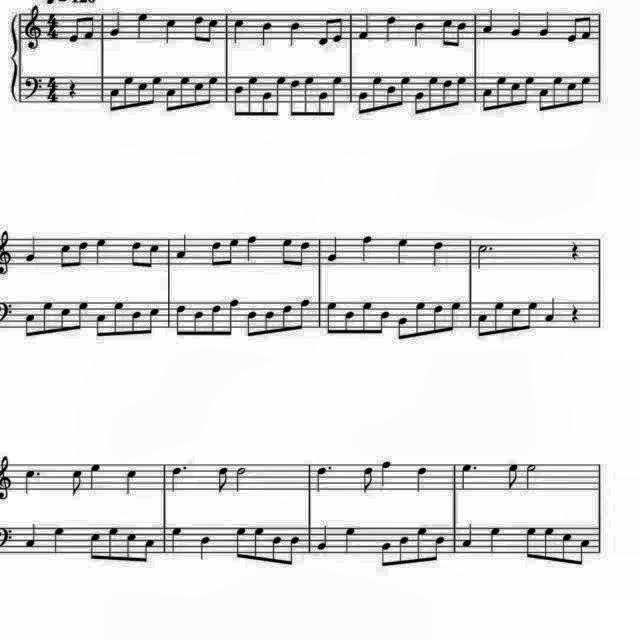Bass-clef: (23, 76, 45, 102)
Eighth-note: (244, 74, 260, 120), (227, 296, 243, 340), (328, 76, 344, 120), (302, 75, 318, 119), (38, 299, 56, 337), (250, 522, 266, 562), (110, 298, 126, 338), (414, 522, 430, 562), (412, 298, 428, 338), (540, 522, 556, 562), (370, 72, 386, 111), (232, 523, 248, 561), (439, 15, 456, 50), (287, 77, 301, 119), (176, 74, 192, 110), (122, 73, 138, 109), (208, 302, 224, 338), (174, 300, 190, 336), (559, 530, 575, 566), (440, 76, 456, 112), (524, 526, 540, 562), (286, 532, 302, 568), (358, 300, 374, 336), (298, 296, 314, 332), (357, 464, 375, 496), (68, 467, 86, 499), (106, 522, 120, 562), (316, 15, 332, 49), (124, 529, 140, 563), (448, 300, 464, 334), (88, 528, 104, 562), (564, 12, 580, 46), (326, 298, 342, 332), (576, 534, 592, 568), (520, 75, 536, 109), (190, 12, 207, 44), (56, 240, 74, 270), (505, 460, 523, 490), (425, 74, 439, 112), (494, 75, 508, 113), (274, 76, 286, 120), (58, 304, 74, 336), (270, 534, 286, 566), (74, 300, 90, 332), (148, 74, 164, 106), (146, 308, 162, 340), (524, 300, 540, 332), (129, 238, 145, 270), (454, 20, 470, 52), (332, 14, 348, 46), (278, 236, 294, 268), (578, 74, 594, 106), (492, 299, 506, 335), (190, 308, 206, 338), (68, 12, 84, 42), (242, 307, 258, 337), (260, 90, 276, 120), (128, 308, 144, 338), (316, 90, 332, 120), (433, 533, 449, 563), (378, 538, 394, 568), (74, 239, 90, 269), (214, 463, 230, 493), (22, 310, 38, 340), (476, 310, 492, 340), (430, 301, 444, 335), (396, 533, 410, 567), (397, 75, 411, 109), (454, 76, 468, 110), (233, 84, 247, 118), (208, 237, 224, 266), (280, 302, 294, 334), (206, 76, 220, 108), (94, 311, 110, 339), (376, 308, 392, 336), (136, 78, 150, 110), (191, 78, 205, 110), (579, 10, 593, 42), (146, 244, 162, 272), (394, 313, 410, 341), (296, 238, 310, 270), (226, 236, 240, 268), (552, 76, 564, 112), (84, 12, 98, 42), (510, 304, 524, 334), (143, 535, 157, 565), (264, 308, 278, 336), (536, 87, 550, 115), (564, 82, 578, 110), (509, 82, 523, 110), (343, 308, 357, 336), (165, 88, 179, 116), (413, 90, 427, 118), (107, 86, 121, 114), (206, 18, 220, 46), (481, 88, 495, 115), (356, 90, 369, 118), (386, 84, 398, 112)
Half-dot: (476, 242, 496, 274)
Half-note: (524, 462, 540, 493), (234, 465, 250, 495)
Quarter-dot: (170, 460, 190, 498), (21, 464, 44, 496), (312, 465, 336, 495), (458, 461, 478, 491)
Quarter-note: (428, 236, 448, 268), (122, 467, 142, 497), (23, 232, 41, 264), (87, 462, 105, 494), (323, 233, 341, 264), (382, 13, 400, 44), (487, 524, 505, 554), (341, 525, 359, 555), (357, 233, 375, 263), (413, 465, 431, 495), (393, 235, 411, 265), (134, 10, 150, 42), (356, 11, 372, 43), (243, 233, 260, 263), (536, 9, 552, 39), (108, 9, 124, 39), (510, 10, 526, 40), (232, 16, 248, 46), (314, 522, 330, 552), (94, 236, 110, 266), (162, 14, 178, 44), (24, 520, 40, 550), (52, 525, 68, 555), (168, 524, 184, 554), (378, 458, 394, 488), (173, 233, 190, 261), (198, 532, 215, 560), (481, 8, 497, 36), (412, 20, 428, 48), (286, 20, 302, 48), (260, 20, 276, 48), (462, 524, 478, 552), (542, 298, 558, 326)
Quarter-rest: (566, 236, 584, 264), (567, 302, 583, 326), (66, 78, 80, 102)
Treble-clef: (22, 3, 46, 53)
